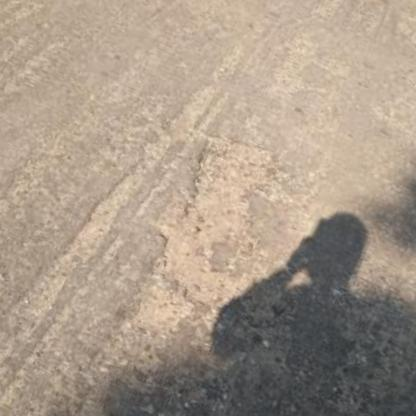pothole: (117, 120, 307, 365), (292, 0, 394, 19)
